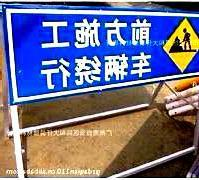sign: (7, 7, 199, 102)
